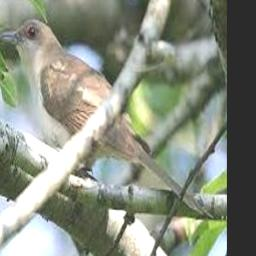Cuckoo: (0, 19, 213, 221)
